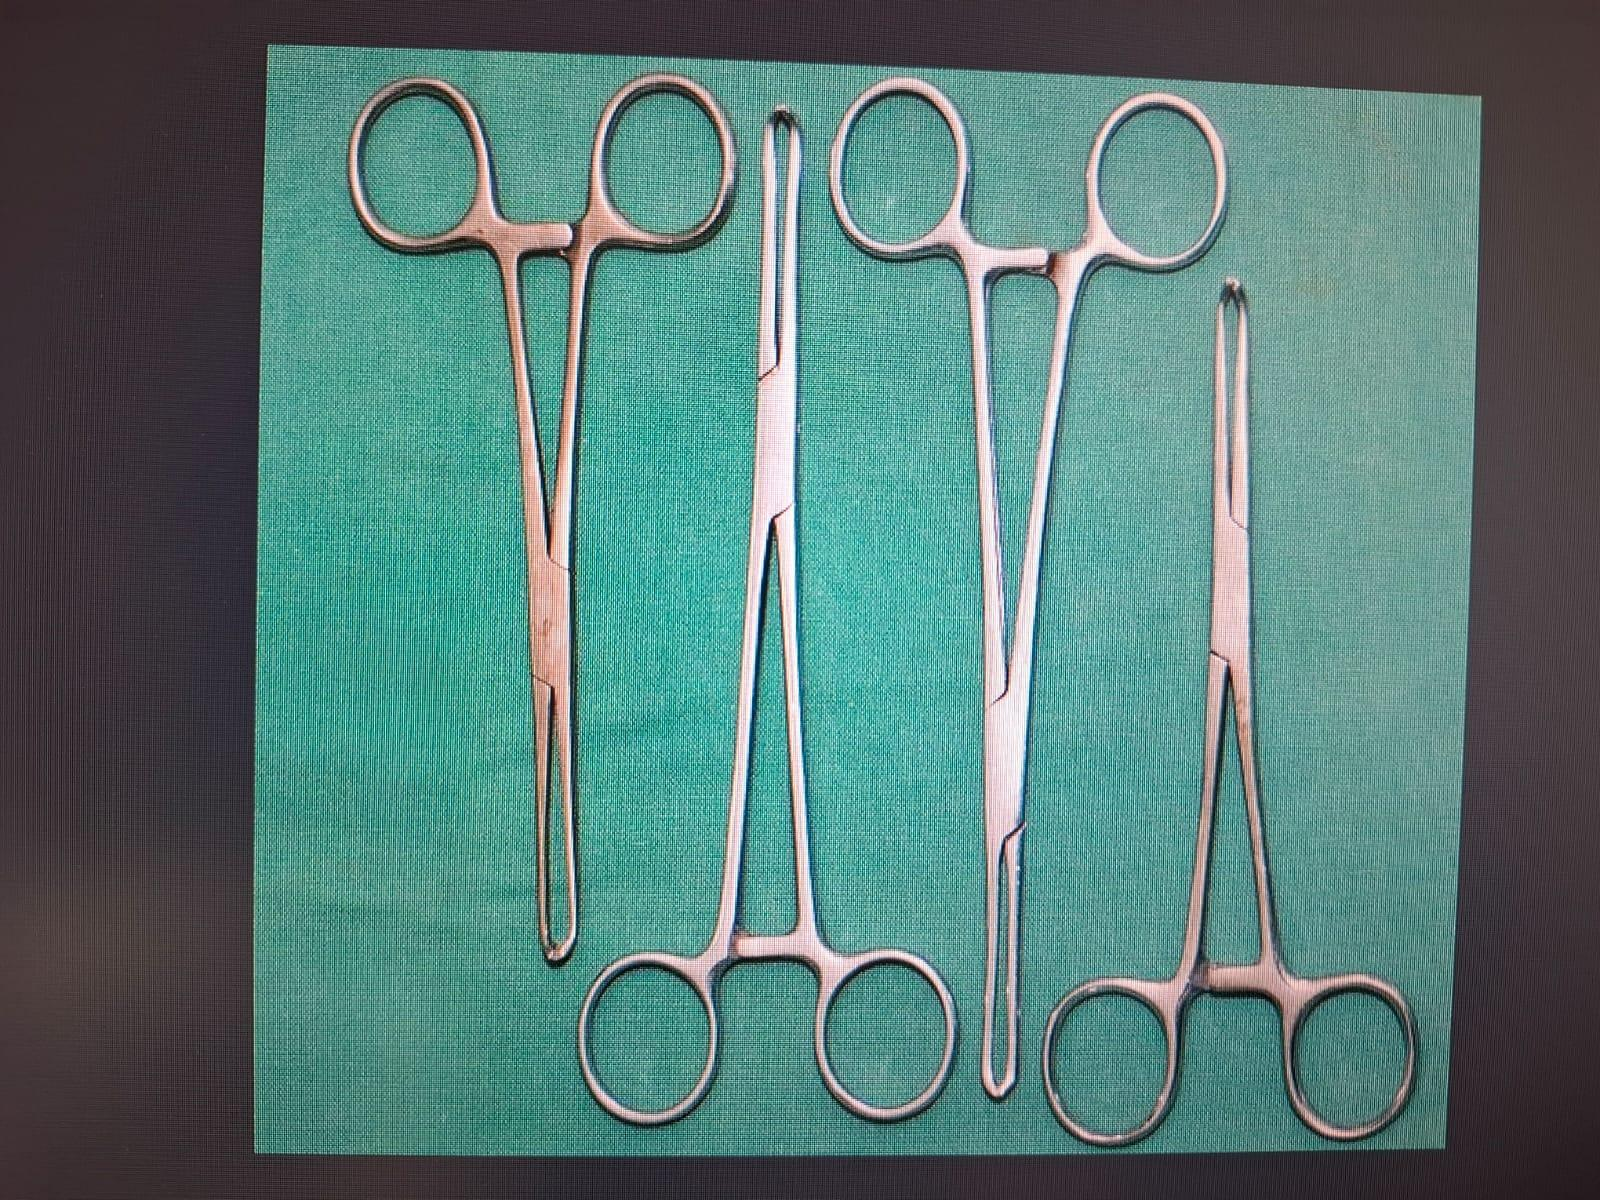Allis Forceps: (564, 89, 966, 1136), (826, 68, 1226, 1121), (330, 64, 745, 986), (1041, 268, 1436, 1150)
